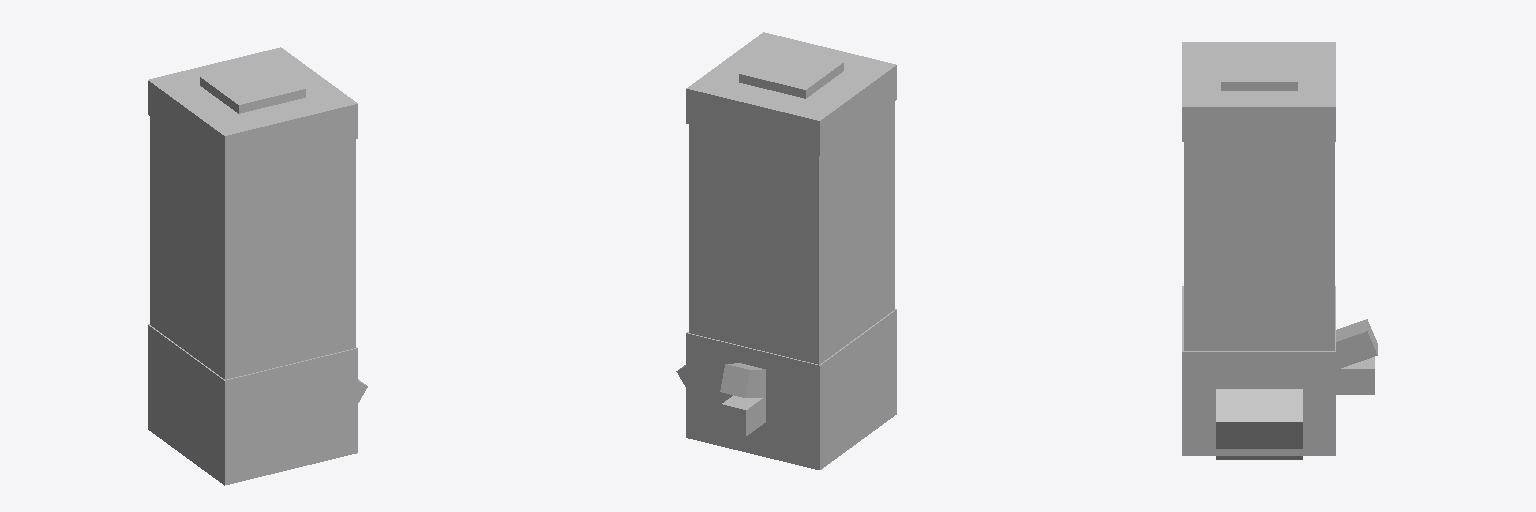
Rendered from reanimator.obj.
3 renders of one model, left to right at view 1: azimuth 30°, elevation 25°; view 2: azimuth 150°, elevation 25°; view 3: azimuth 270°, elevation 25°, orthographic.
Parts seen in each view (by area): view 1: Glass1; view 2: Glass1; view 3: Glass1.
Part boxes in pixels (x1,y1,x2,y2): Glass1: (148, 47, 367, 485); Glass1: (676, 32, 896, 469); Glass1: (1182, 42, 1377, 459).
Size of the model in its own units: 1.2 by 2.63 by 1.27.